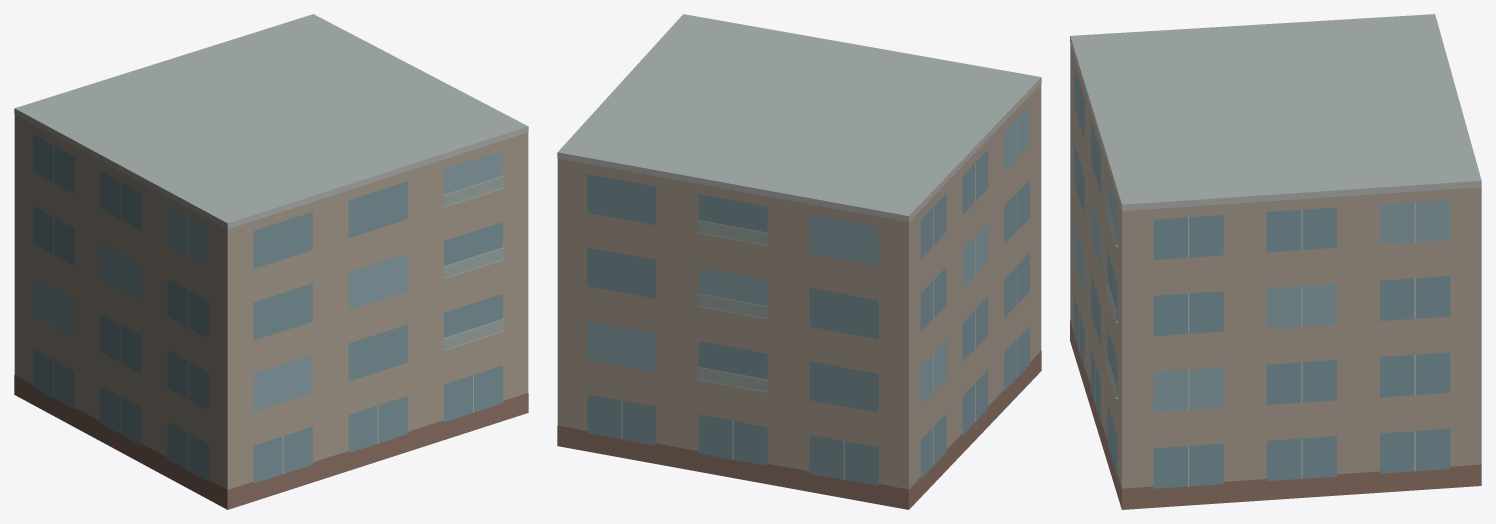
Rendered from survey-upis-32576765.glb.
The picture shows the model from 3 angles, left to right: view 1: azimuth 30°, elevation 25°; view 2: azimuth 150°, elevation 25°; view 3: azimuth 270°, elevation 25°; orthographic projection. The views are drawn at different scales.
Parts seen in each view (by area): view 1: survey-upis-32576765.tmp; view 2: survey-upis-32576765.tmp; view 3: survey-upis-32576765.tmp.
Boxes of the visible parts, box(x1,y1,x2,y2) form: survey-upis-32576765.tmp: box(14, 14, 528, 509); survey-upis-32576765.tmp: box(557, 14, 1041, 509); survey-upis-32576765.tmp: box(1070, 14, 1481, 509).
Bounding box in the file's own units: 15.7 × 11.7 × 14.31.
